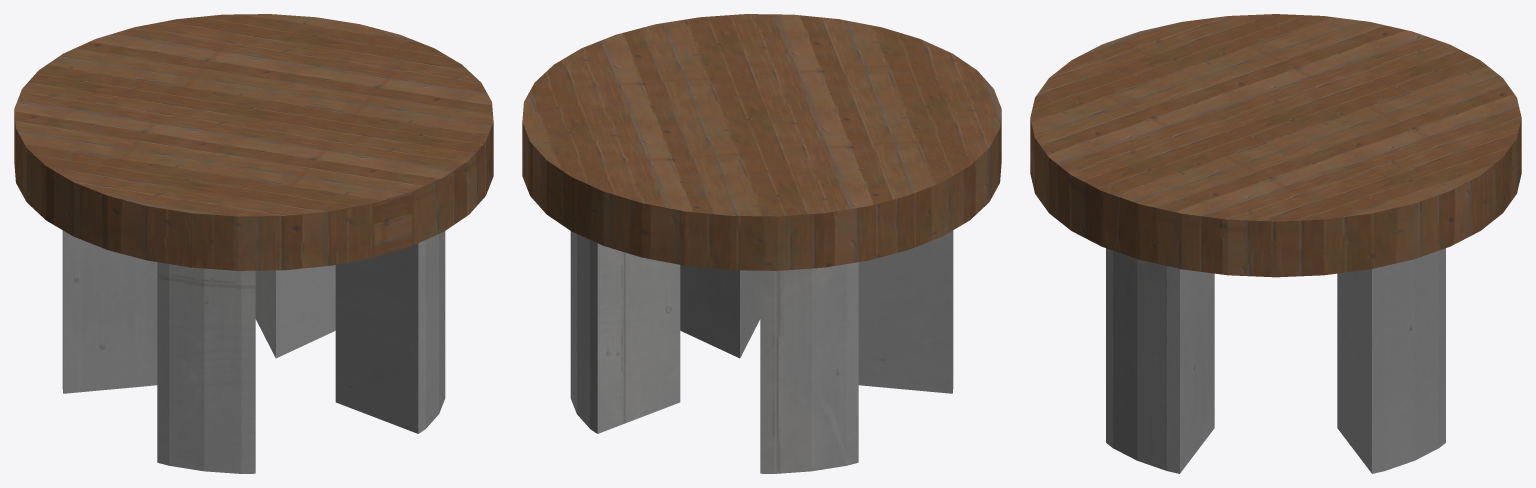
The model's file is Table.fbx.
The picture shows the model from 3 angles, left to right: view 1: azimuth 30°, elevation 25°; view 2: azimuth 150°, elevation 25°; view 3: azimuth 270°, elevation 25°; orthographic projection. The views are drawn at different scales.
Visible parts, largest first — view 1: LowPoly; view 2: LowPoly; view 3: LowPoly.
Boxes of the visible parts, bbox=[...] form: LowPoly: bbox=[14, 14, 493, 473]; LowPoly: bbox=[522, 14, 1001, 473]; LowPoly: bbox=[1030, 14, 1521, 473].
Bounding box in the file's own units: 200 × 128 × 200.
1 material, 1 textured.
